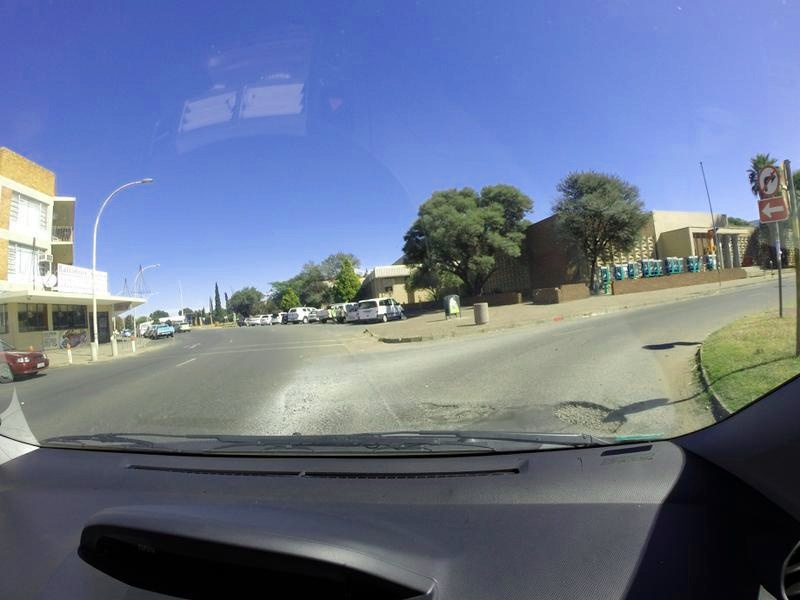pothole: (550, 394, 627, 437), (418, 390, 503, 423)
